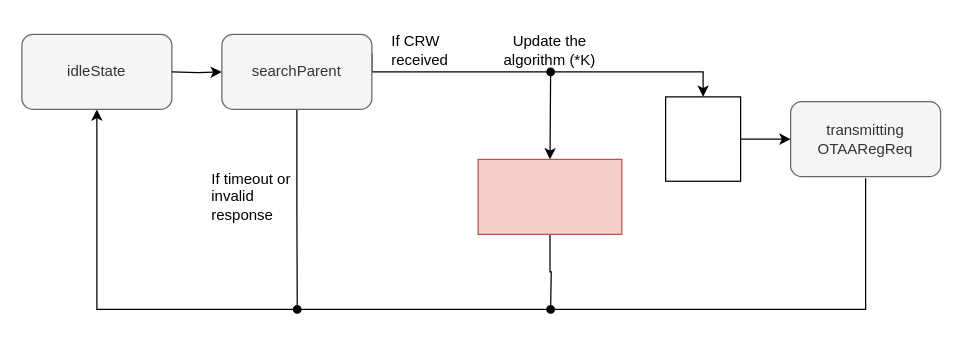
Image size: 963x341. Some labels were removed from this diagram. The centre of each missing label's shape, as x and y in pixels:
"+ QUEUE the (potentialParent) node time slot" belongs at (549,196).
"TX: request to connect to the parent" belongs at (702,138).
